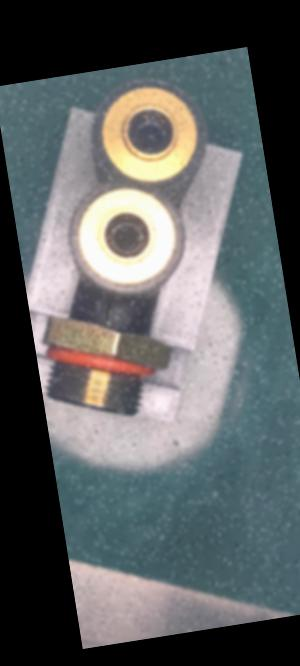craze: (101, 298, 118, 332)
